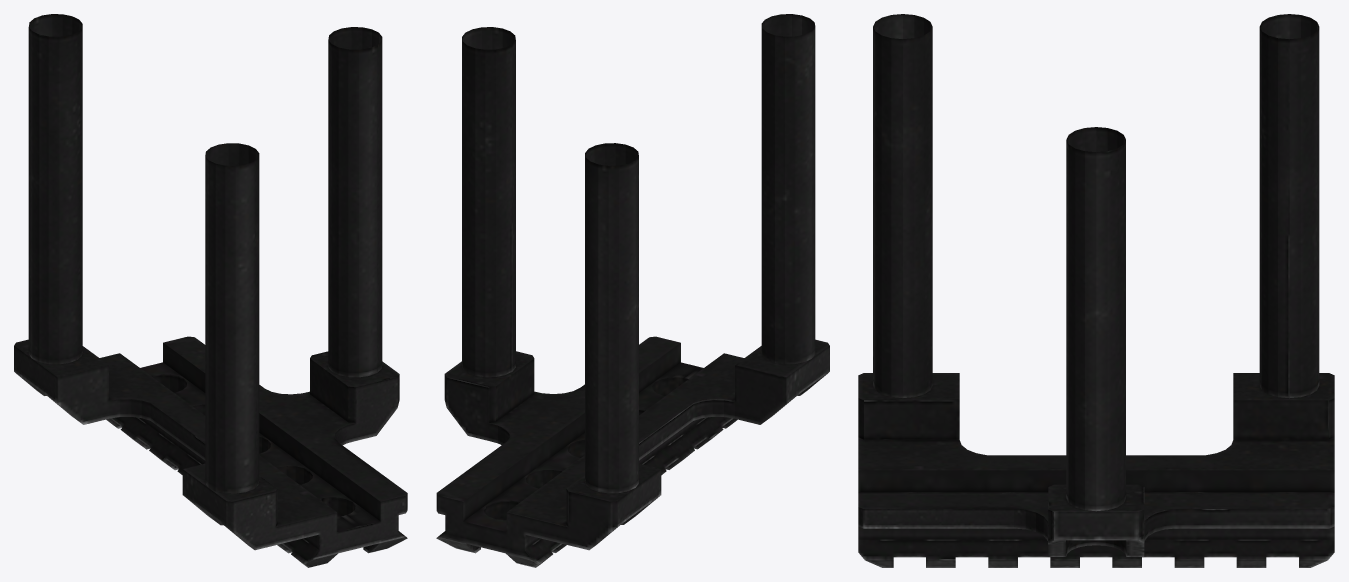
The picture shows the model from 3 angles, left to right: view 1: azimuth 30°, elevation 25°; view 2: azimuth 150°, elevation 25°; view 3: azimuth 270°, elevation 25°; orthographic projection. The views are drawn at different scales.
Visible parts, largest first — view 1: TW_6492c8bba6e68e06fb0bae87_PZ_Import; view 2: TW_6492c8bba6e68e06fb0bae87_PZ_Import; view 3: TW_6492c8bba6e68e06fb0bae87_PZ_Import.
Part boxes in pixels (x1,y1,x2,y2): TW_6492c8bba6e68e06fb0bae87_PZ_Import: [14, 14, 407, 567]; TW_6492c8bba6e68e06fb0bae87_PZ_Import: [436, 14, 829, 567]; TW_6492c8bba6e68e06fb0bae87_PZ_Import: [858, 14, 1334, 567].
Size of the model in its own units: 0.0306 by 0.0444 by 0.0476.
Materials: 1 (1 with a texture image).
